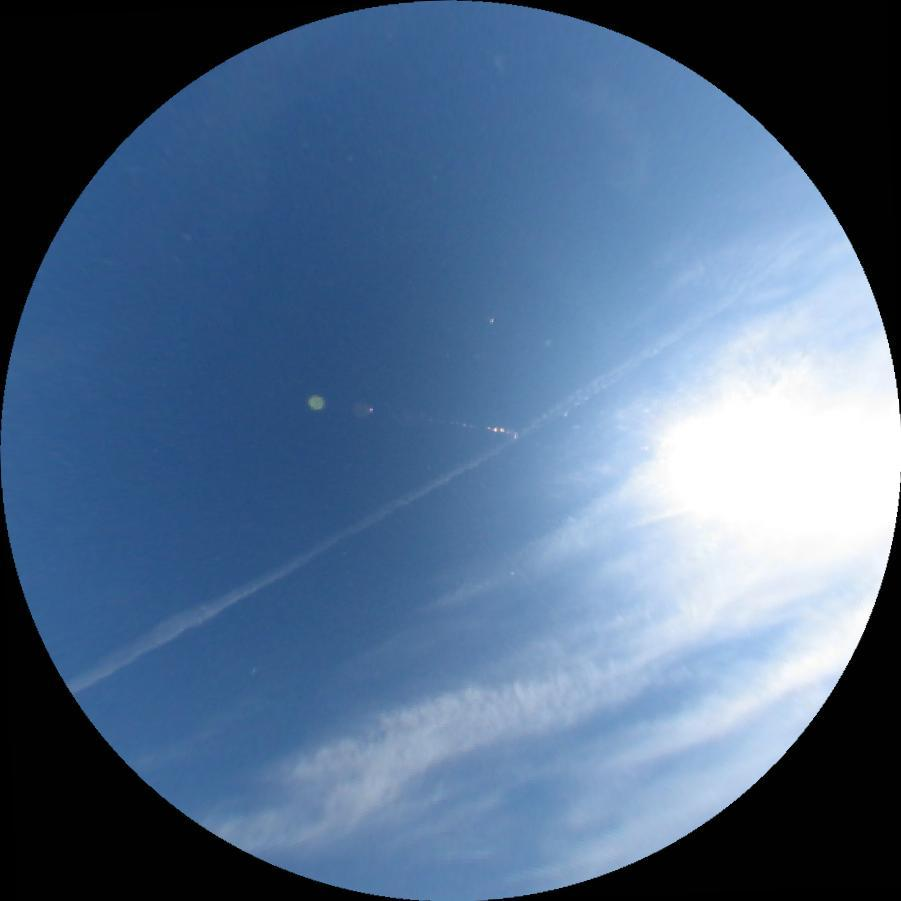contrail old: (65, 219, 851, 704)
